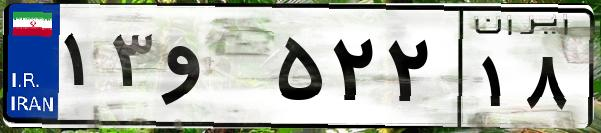1: (57, 26, 110, 100), (475, 38, 525, 113)
2: (385, 28, 445, 110), (330, 28, 385, 110)
3: (110, 28, 158, 98)
5: (270, 28, 330, 110)
8: (525, 38, 570, 115)
و: (158, 20, 270, 120)
